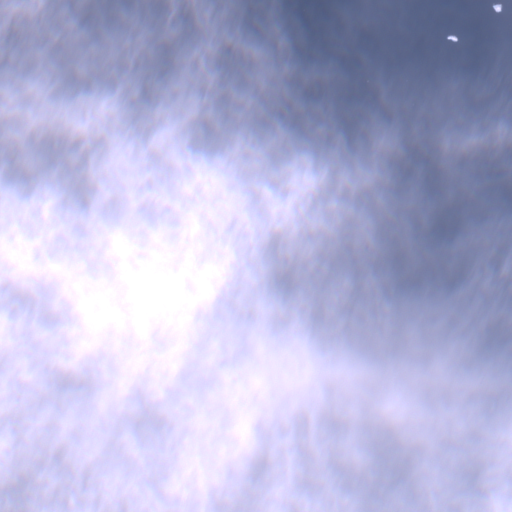Iceberg: (447, 35, 457, 41), (493, 4, 501, 11)
